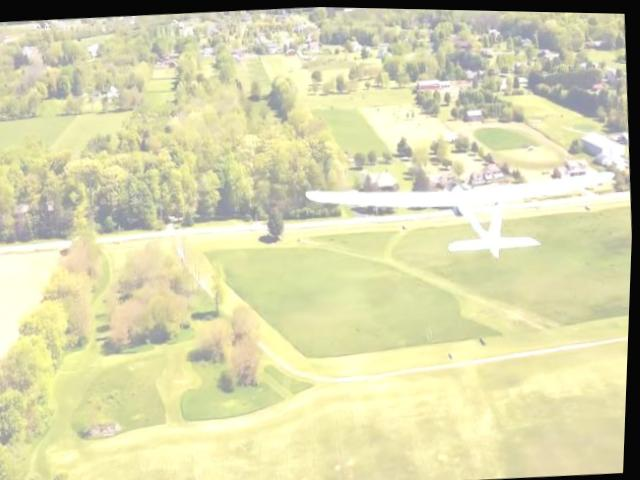iha: (305, 155, 627, 270)
